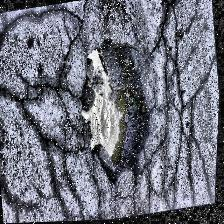pothole: (68, 32, 166, 188)
